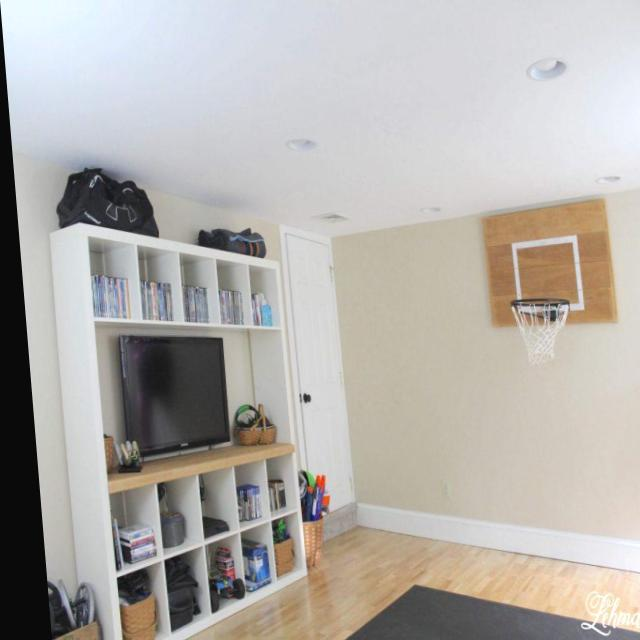hoop: (510, 297, 575, 365)
